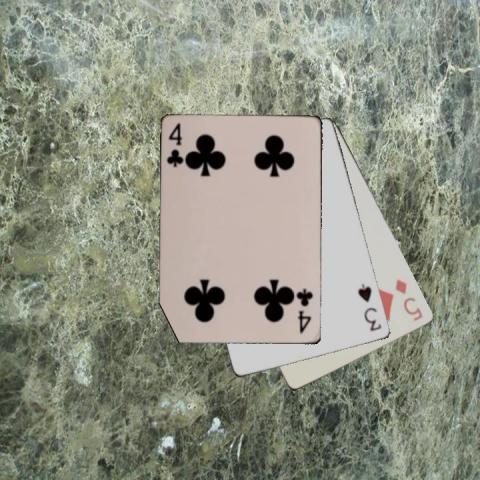3s: (356, 281, 384, 333)
4c: (164, 121, 185, 169), (295, 285, 315, 335)
5d: (392, 276, 424, 323)
